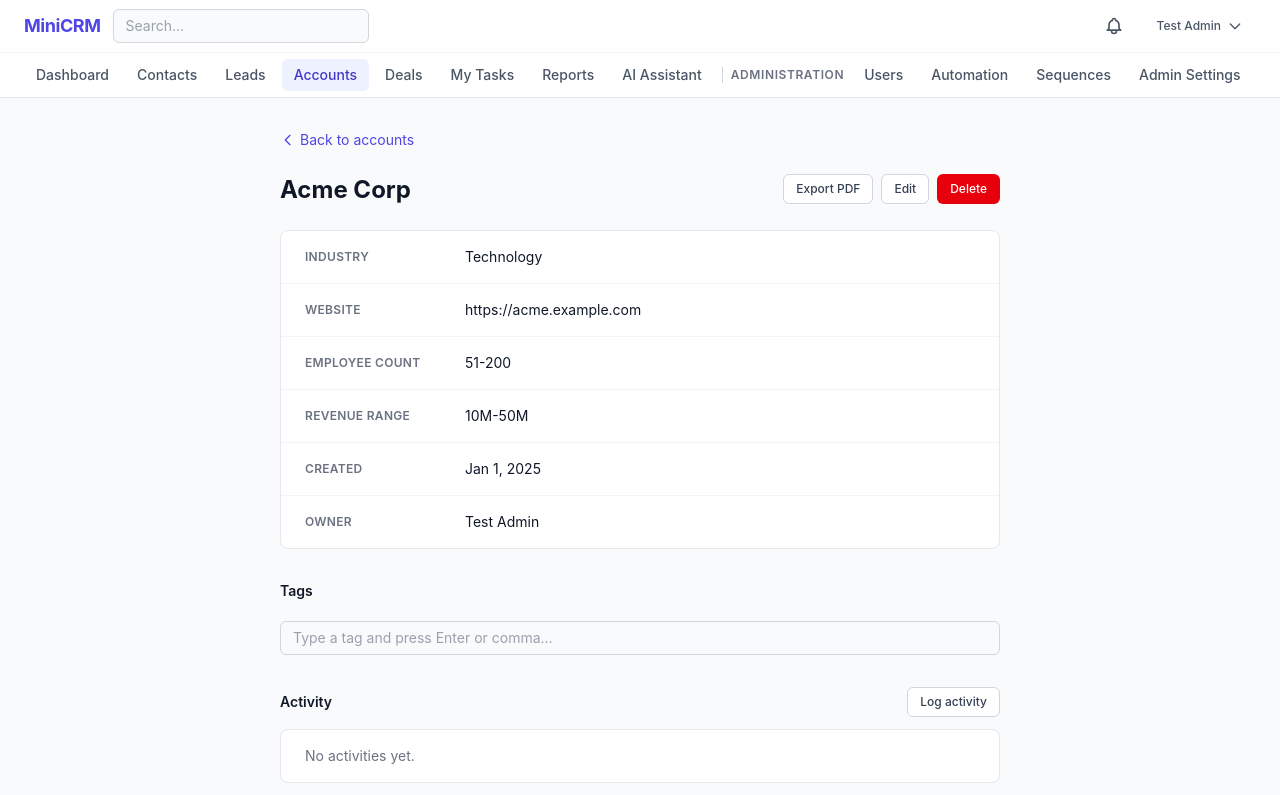
AccountDetailPage › hides the edit form when Cancel is clicked
Click the button with test id "edit-account-button": point(905, 189) [881,174,929,204]
(page scrolled)
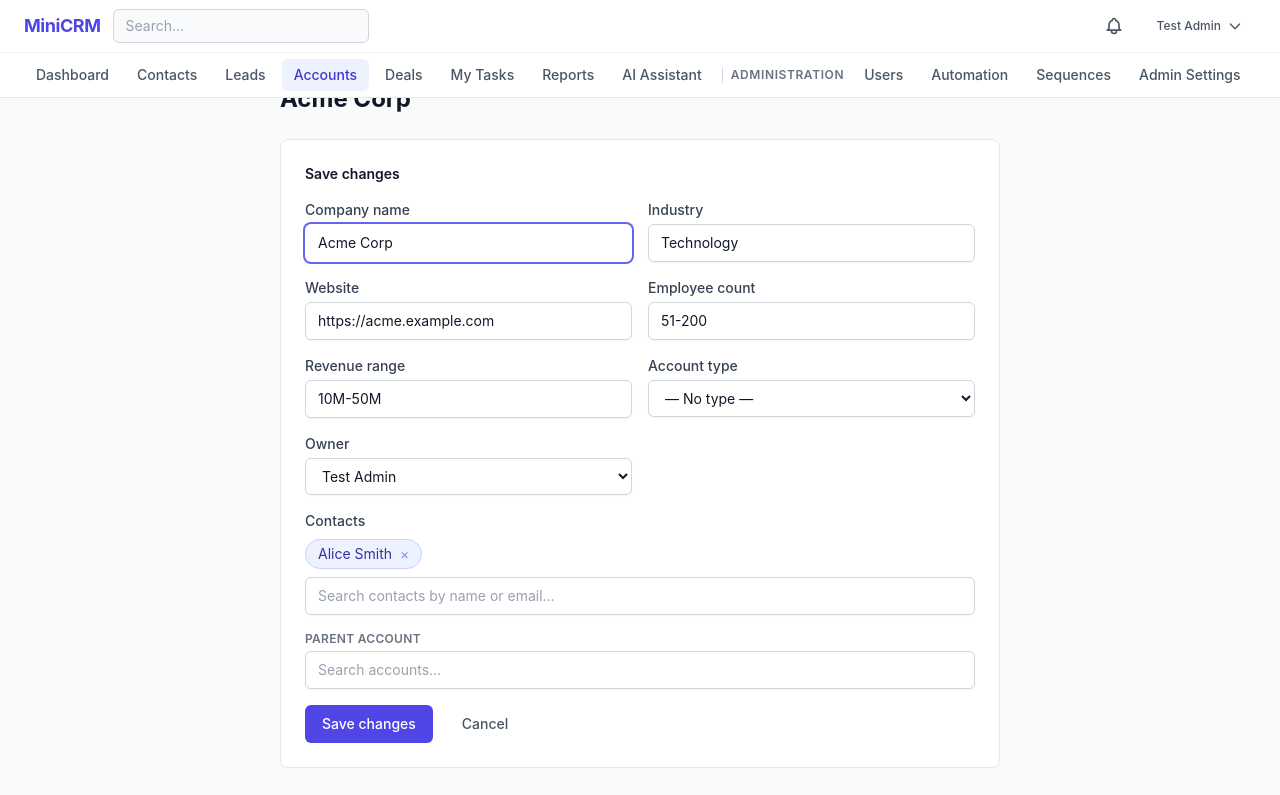
Expected: the form with test id "account-form" is shown, [305,200,975,743]
Click the button with test id "account-form-cancel": point(485, 724) [445,705,525,743]
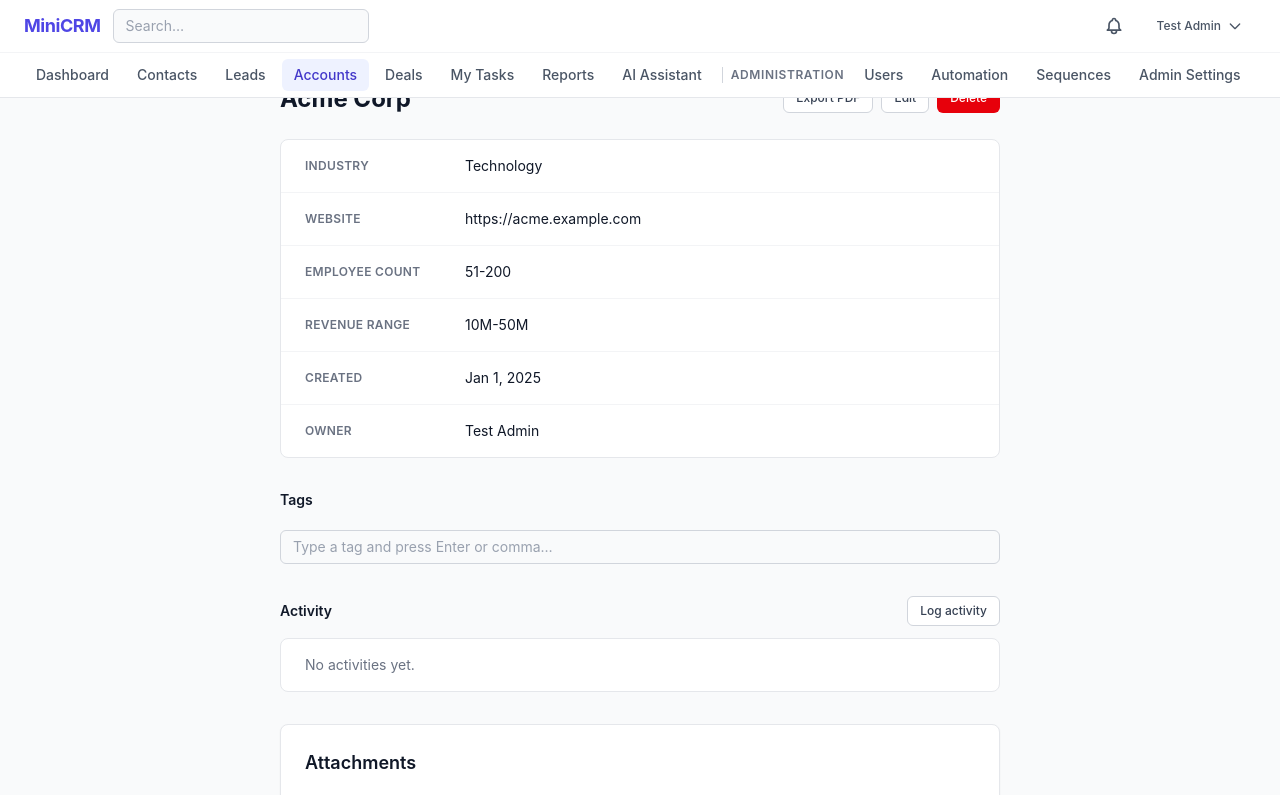
Expected: the form with test id "account-form" is gone
